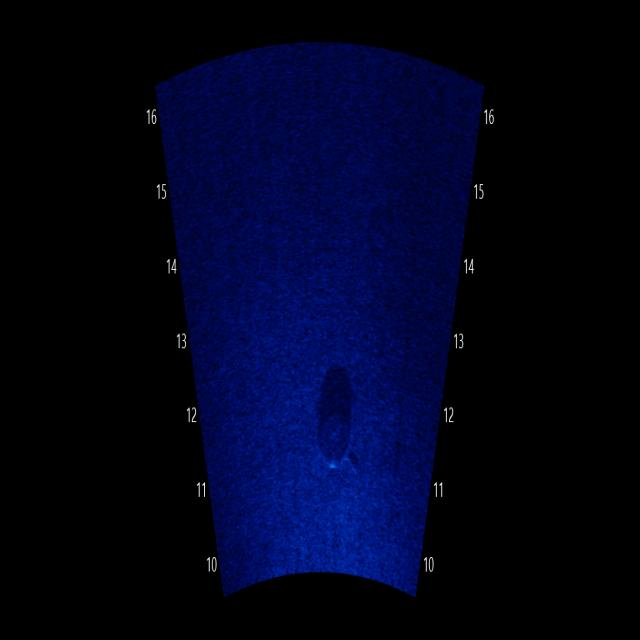circle: (314, 393, 360, 466)
